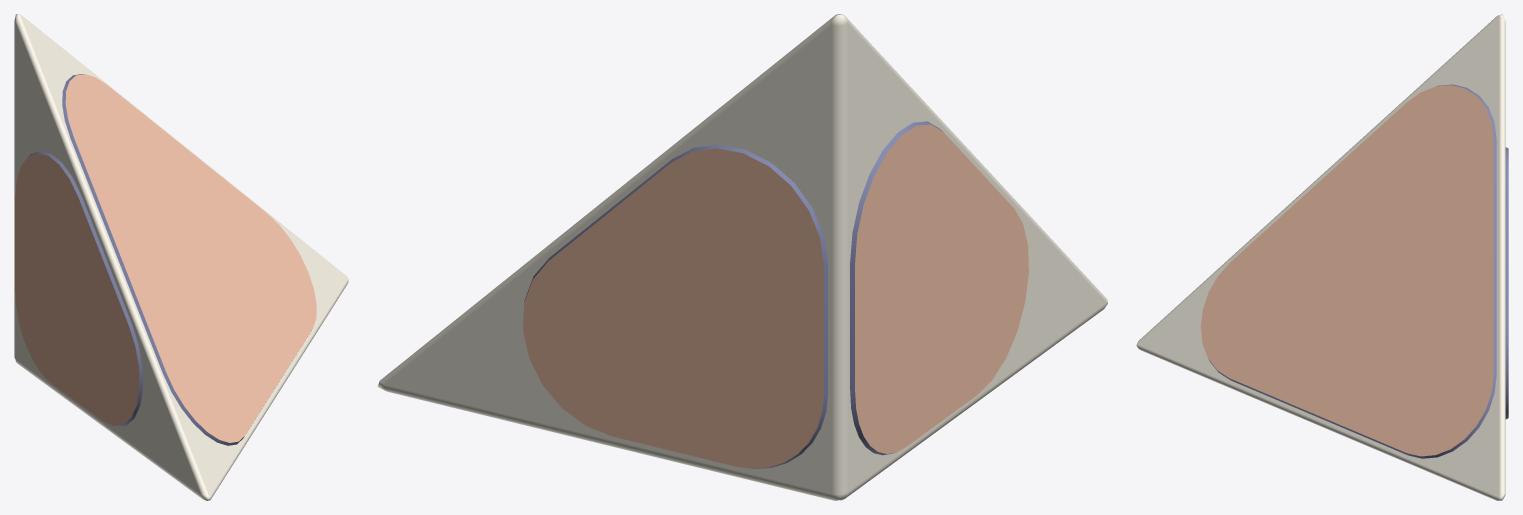
File: R4B_Tetra.fbx
3 renders of one model, left to right at view 1: azimuth 30°, elevation 25°; view 2: azimuth 150°, elevation 25°; view 3: azimuth 270°, elevation 25°, orthographic. The views are drawn at different scales.
Parts seen in each view (by area): view 1: R4B_Tetra; view 2: R4B_Tetra; view 3: R4B_Tetra.
Part boxes in pixels (x1,y1,x2,y2): R4B_Tetra: (14, 14, 348, 500); R4B_Tetra: (377, 14, 1107, 500); R4B_Tetra: (1136, 14, 1508, 500).
Bounding box in the file's own units: 0.4892 × 0.4892 × 0.4892.
